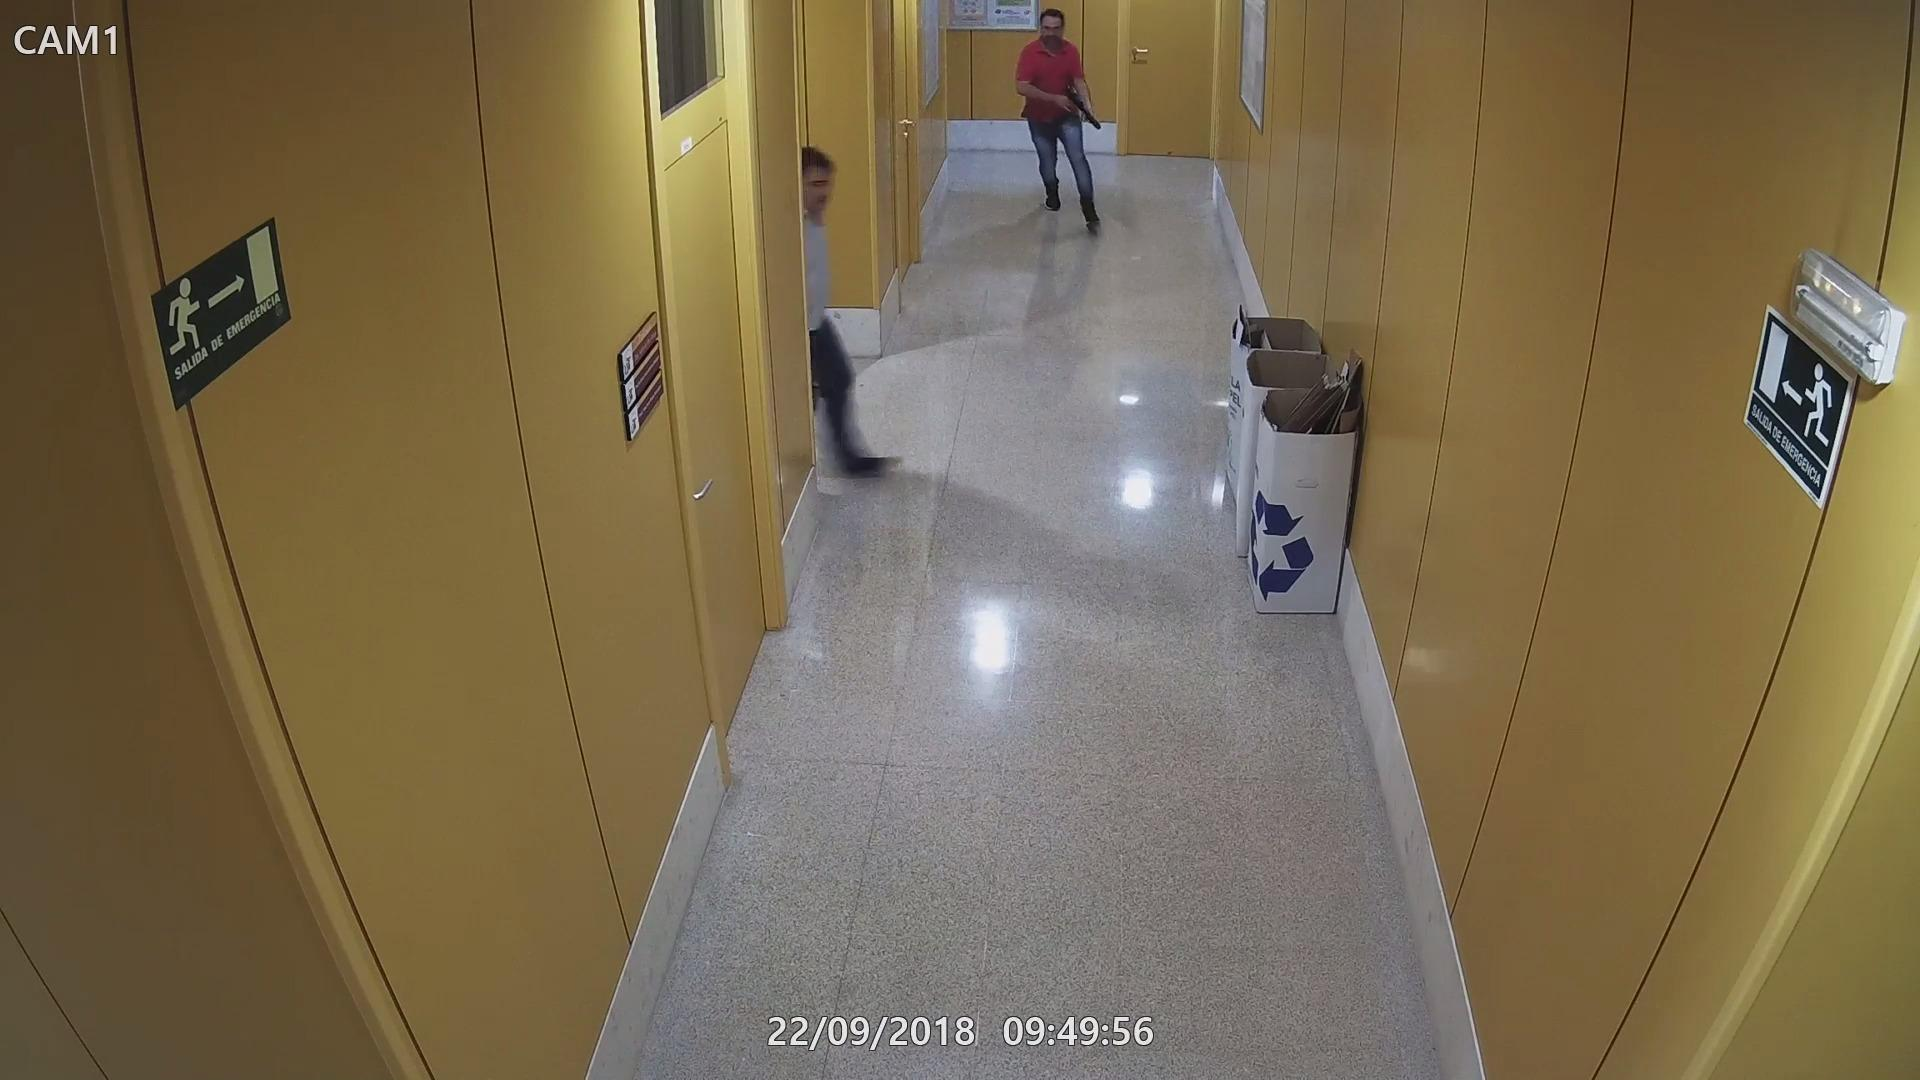Handgun: (806, 364, 825, 411)
